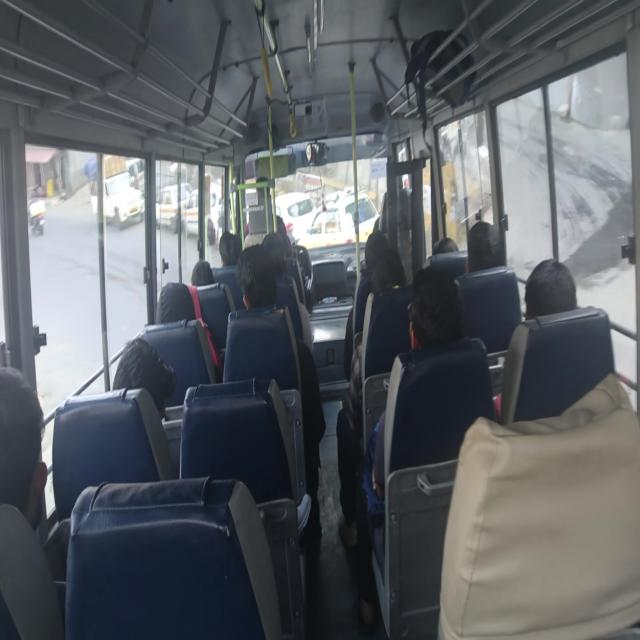person: (356, 266, 494, 633), (224, 243, 326, 540), (336, 243, 408, 548), (0, 365, 69, 637), (493, 258, 578, 420), (0, 364, 48, 538), (344, 230, 388, 379), (261, 231, 314, 351), (112, 336, 177, 420), (156, 259, 215, 323), (524, 258, 578, 320), (464, 220, 505, 274), (218, 231, 241, 267), (191, 259, 214, 286), (432, 236, 458, 254)
